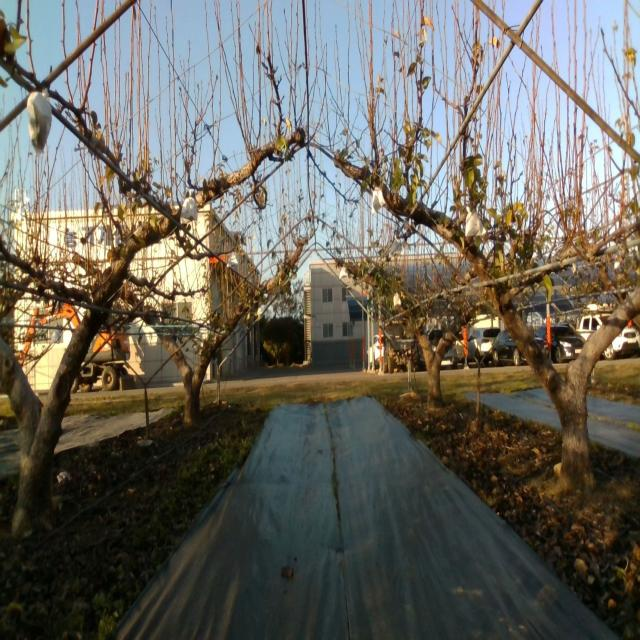pearbags: (27, 87, 51, 156), (180, 190, 197, 225), (464, 211, 486, 236), (371, 186, 386, 215), (388, 240, 405, 259), (226, 251, 240, 272)
